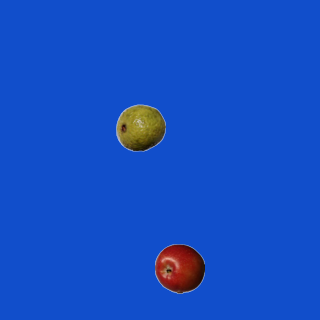Apple Braeburn: (154, 243, 204, 293)
Guava: (115, 102, 165, 152)
